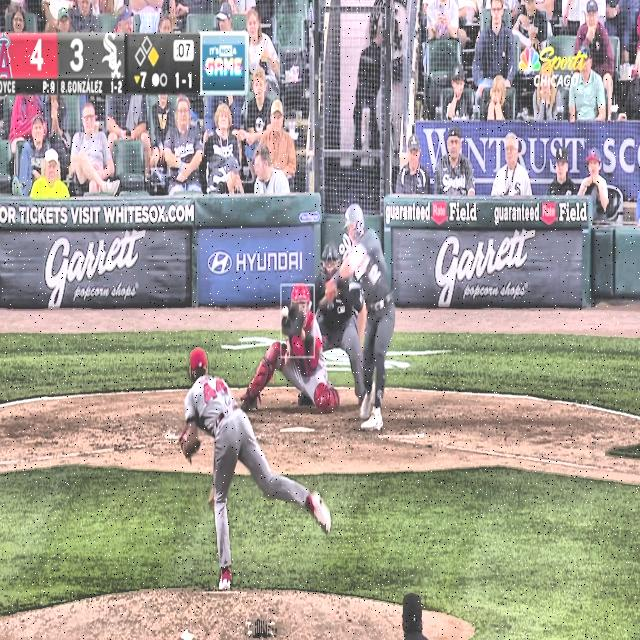baseball: (282, 305, 290, 318)
